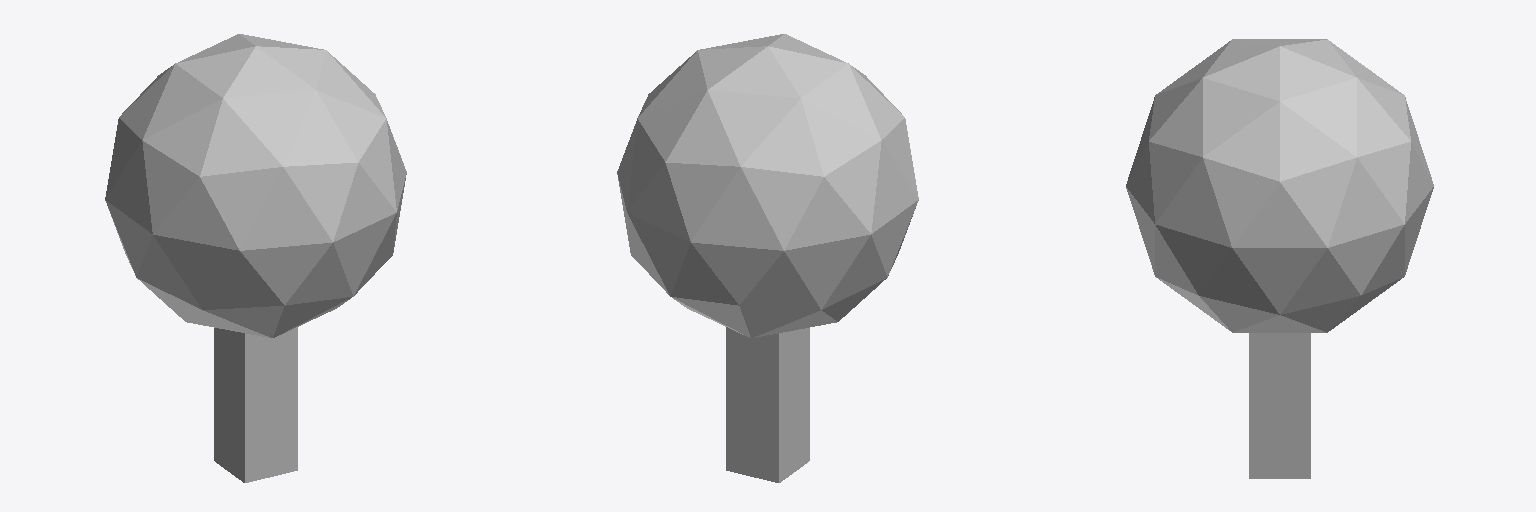
File: Sapling.obj
3 renders of one model, left to right at view 1: azimuth 30°, elevation 25°; view 2: azimuth 150°, elevation 25°; view 3: azimuth 270°, elevation 25°, orthographic.
Parts seen in each view (by area): view 1: Cube; view 2: Cube; view 3: Cube.
Part boxes in pixels (left/top/right/bottom): Cube: left=105, top=34, right=406, bottom=482; Cube: left=617, top=34, right=918, bottom=482; Cube: left=1126, top=39, right=1433, bottom=478.
Size of the model in its own units: 0.9511 by 1.5 by 1.